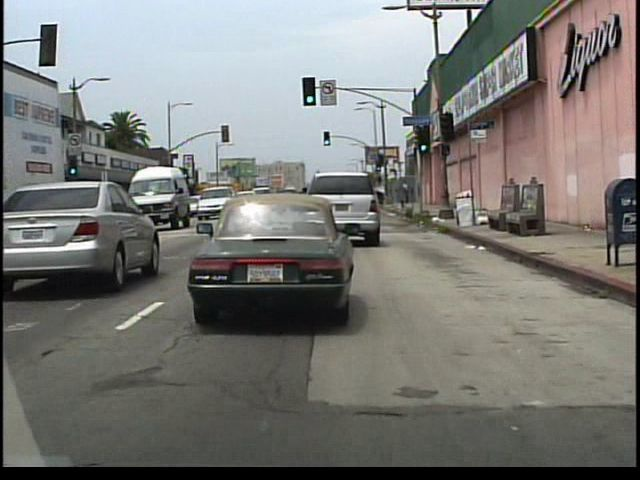person: (402, 179, 412, 204)
